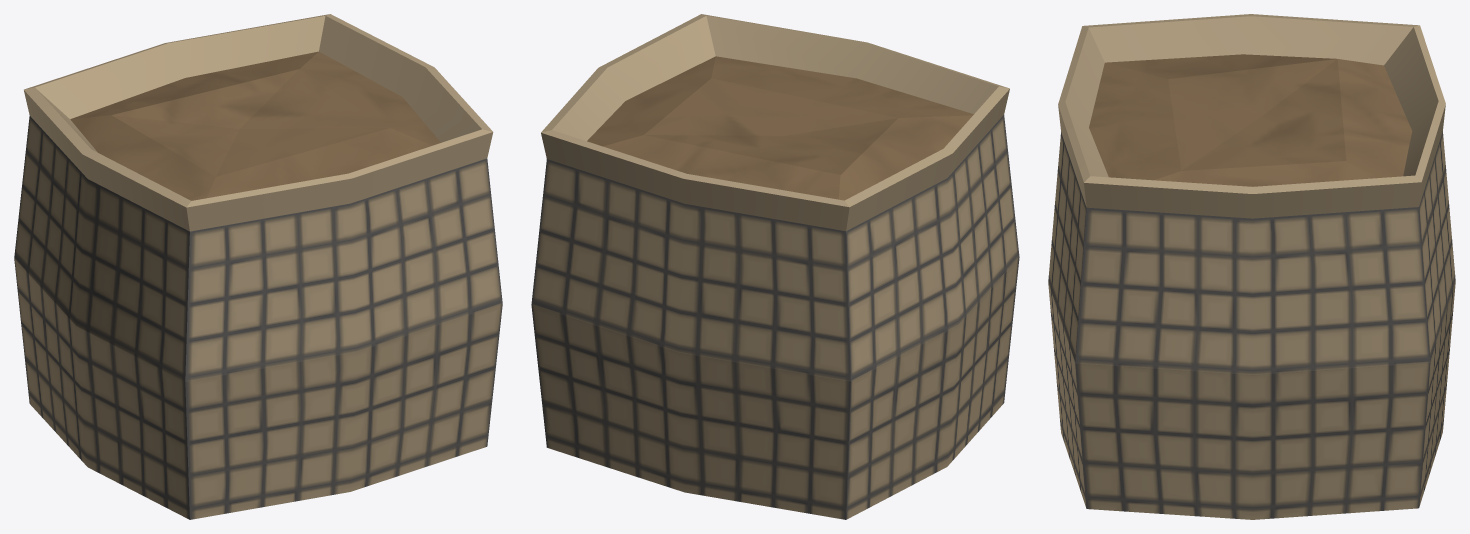
Rendered from SM_Prop_Barrier_Base_Single_01.fbx.
The picture shows the model from 3 angles, left to right: view 1: azimuth 30°, elevation 25°; view 2: azimuth 150°, elevation 25°; view 3: azimuth 270°, elevation 25°; orthographic projection. The views are drawn at different scales.
Visible parts, largest first — view 1: SM_Prop_Barrier_Base_Single_01; view 2: SM_Prop_Barrier_Base_Single_01; view 3: SM_Prop_Barrier_Base_Single_01.
Boxes of the visible parts, x1=… form: SM_Prop_Barrier_Base_Single_01: x1=14, y1=14, x2=502, y2=519; SM_Prop_Barrier_Base_Single_01: x1=531, y1=14, x2=1019, y2=519; SM_Prop_Barrier_Base_Single_01: x1=1048, y1=14, x2=1455, y2=519.
Bounding box in the file's own units: 125 × 103 × 115.
